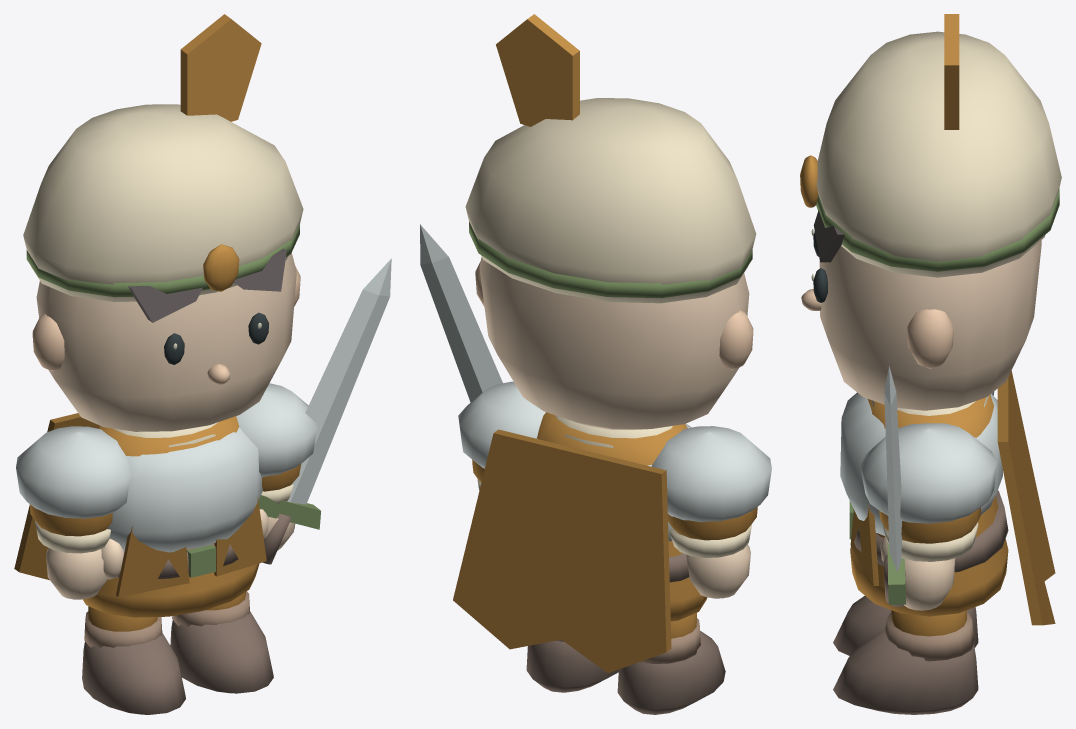
Rendered from knight.glb.
The picture shows the model from 3 angles, left to right: view 1: azimuth 30°, elevation 25°; view 2: azimuth 150°, elevation 25°; view 3: azimuth 270°, elevation 25°; orthographic projection. The views are drawn at different scales.
Parts seen in each view (by area): view 1: Layered cloth turban, Soft cheek head, Rounded breastplate, Big shoulder armour, Short folded tunic, Shaped bevel sword, Round leather boot, Turban fan, Round leather boot.001, Big shoulder armour.001, Coat fold, Turban wrapping (+17 smaller); view 2: Layered cloth turban, Short scalloped cape, Soft cheek head, Big shoulder armour, Turban fan, Shaped bevel sword, Round leather boot, Short folded tunic, Big shoulder armour.001, Turban wrapping, Round leather boot.001, Little mitten (+5 smaller); view 3: Layered cloth turban, Soft cheek head, Big shoulder armour.001, Round leather boot.001, Short scalloped cape, Short folded tunic, Rounded breastplate, Turban wrapping, Shaped bevel sword, Ear.001, Little mitten.001, Boot turn cuff.001 (+12 smaller).
Boxes of the visible parts, x1=… form: Layered cloth turban: x1=23, y1=104, x2=303, y2=302; Soft cheek head: x1=36, y1=253, x2=296, y2=431; Rounded breastplate: x1=107, y1=427, x2=262, y2=552; Big shoulder armour: x1=16, y1=426, x2=131, y2=518; Short folded tunic: x1=82, y1=416, x2=259, y2=617; Shaped bevel sword: x1=287, y1=258, x2=391, y2=504; Round leather boot: x1=82, y1=632, x2=185, y2=714; Turban fan: x1=180, y1=14, x2=261, y2=121; Round leather boot.001: x1=170, y1=610, x2=273, y2=693; Big shoulder armour.001: x1=236, y1=383, x2=317, y2=477; Coat fold: x1=116, y1=526, x2=189, y2=597; Turban wrapping: x1=26, y1=224, x2=299, y2=297; Layered cloth turban: x1=465, y1=98, x2=756, y2=303; Short scalloped cape: x1=453, y1=429, x2=671, y2=672; Soft cheek head: x1=479, y1=257, x2=749, y2=429; Big shoulder armour: x1=651, y1=426, x2=771, y2=522; Turban fan: x1=496, y1=14, x2=579, y2=126; Shaped bevel sword: x1=420, y1=224, x2=502, y2=402; Round leather boot: x1=617, y1=631, x2=725, y2=714; Short folded tunic: x1=537, y1=412, x2=707, y2=621; Big shoulder armour.001: x1=458, y1=381, x2=545, y2=468; Turban wrapping: x1=469, y1=222, x2=752, y2=298; Round leather boot.001: x1=526, y1=641, x2=618, y2=692; Little mitten: x1=686, y1=544, x2=750, y2=598; Layered cloth turban: x1=816, y1=31, x2=1061, y2=277; Soft cheek head: x1=819, y1=240, x2=1041, y2=410; Big shoulder armour.001: x1=860, y1=423, x2=996, y2=523; Round leather boot.001: x1=833, y1=628, x2=978, y2=714; Short scalloped cape: x1=997, y1=370, x2=1055, y2=625; Short folded tunic: x1=850, y1=394, x2=1008, y2=616; Rounded breastplate: x1=840, y1=392, x2=1002, y2=535; Turban wrapping: x1=816, y1=189, x2=1059, y2=271; Shaped bevel sword: x1=884, y1=365, x2=902, y2=572; Ear.001: x1=907, y1=309, x2=953, y2=368; Little mitten.001: x1=904, y1=558, x2=955, y2=610; Boot turn cuff.001: x1=885, y1=612, x2=974, y2=661.
Size of the model in its own units: 1.04 by 1.81 by 0.612.
